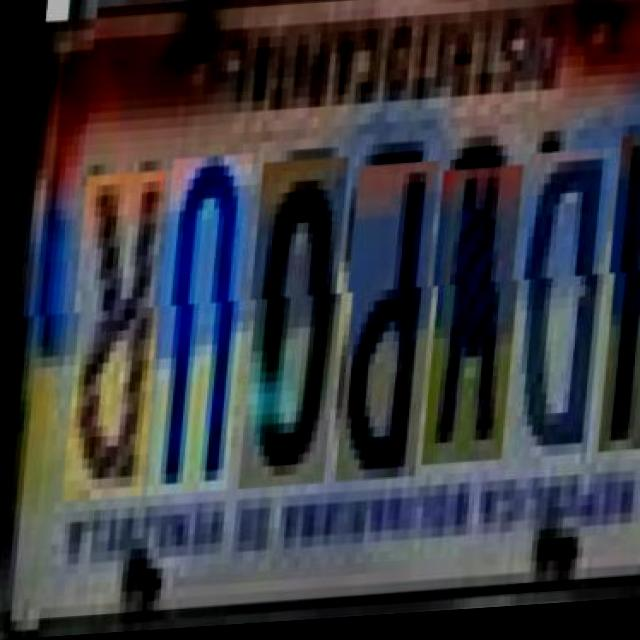d: (496, 156, 606, 477)
h: (589, 144, 640, 462)
o: (229, 162, 339, 492)
p: (326, 166, 430, 487)
r: (52, 171, 157, 502)
u: (139, 158, 243, 498)
w: (412, 171, 514, 471)
